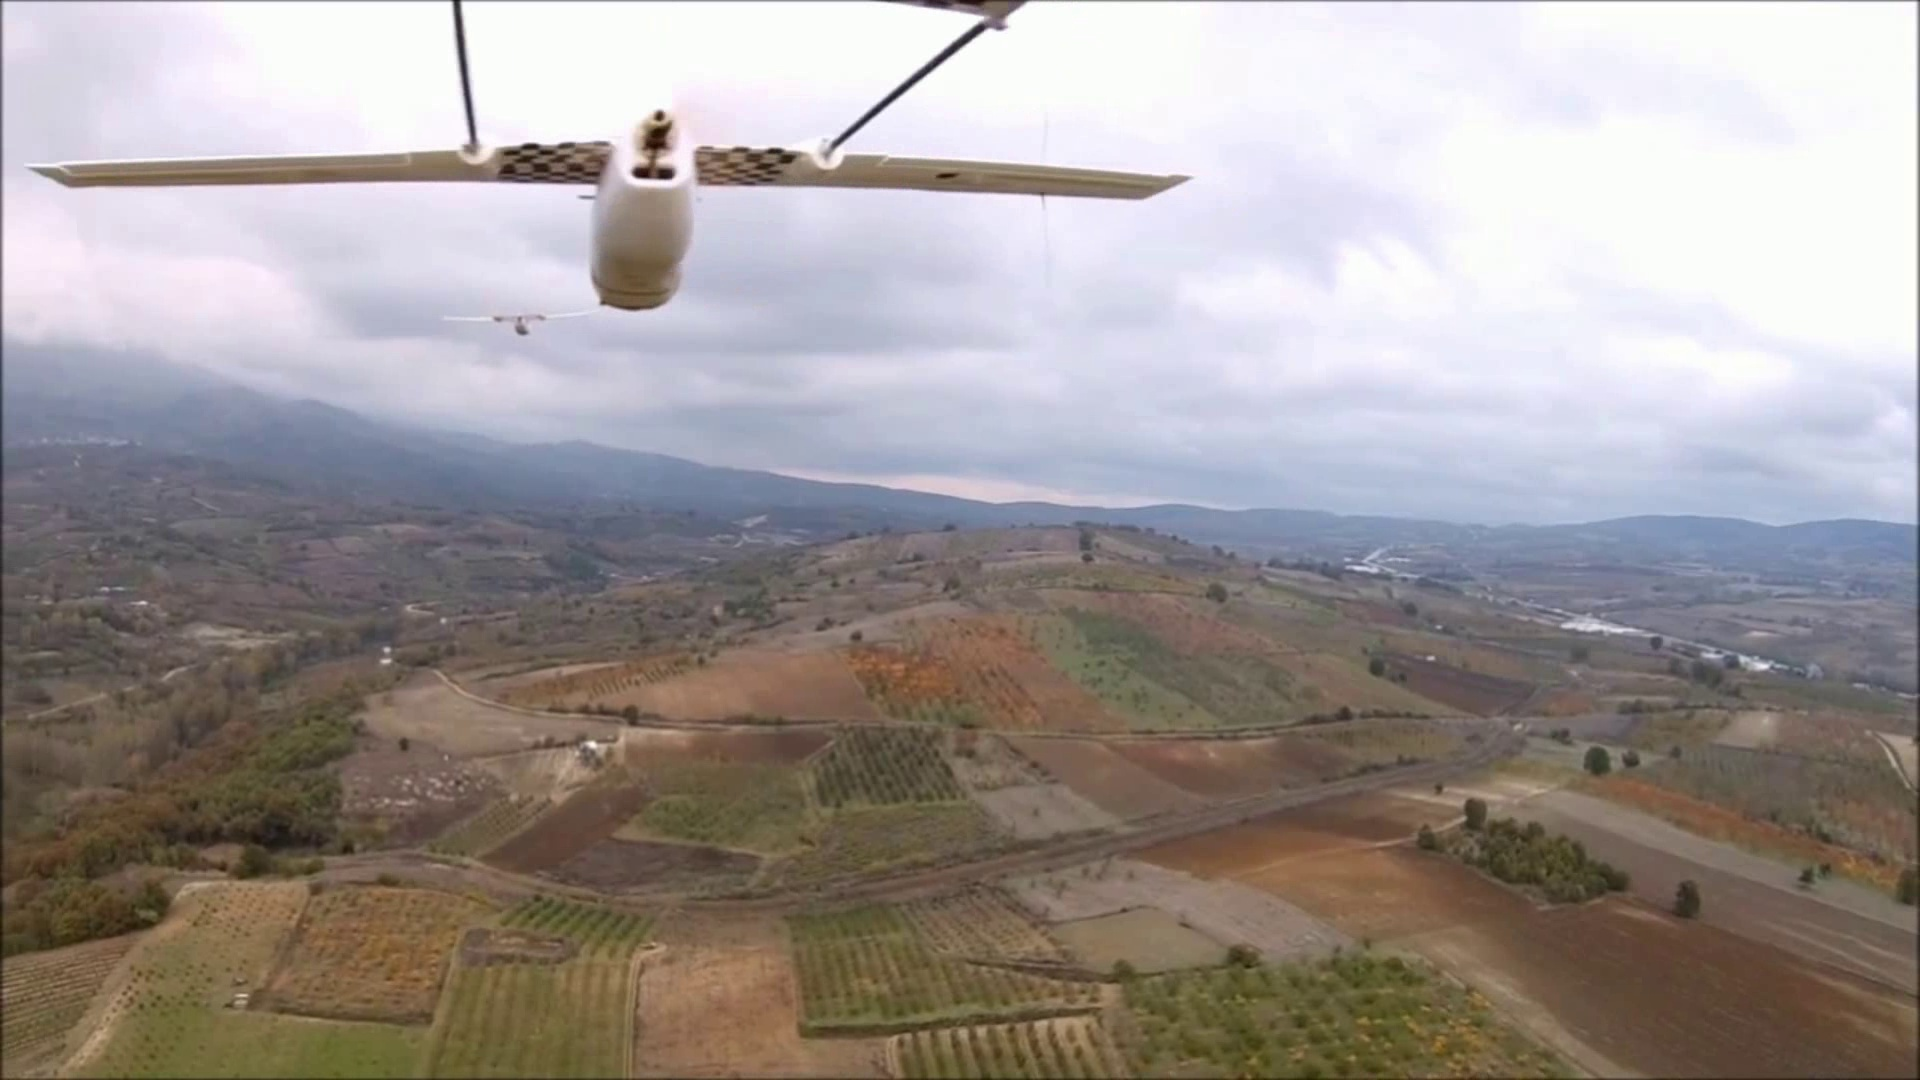airplane: (26, 3, 1189, 323)
